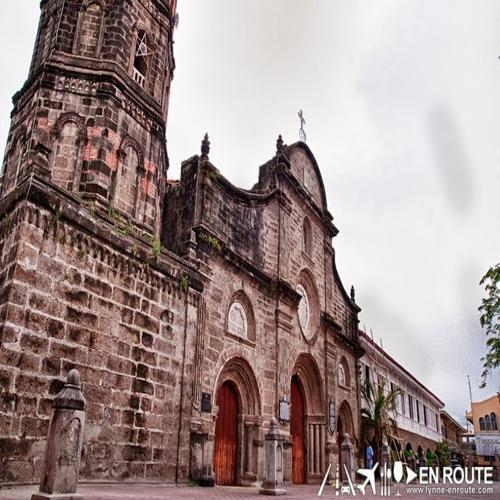Barasoain Church: (3, 1, 362, 493)
